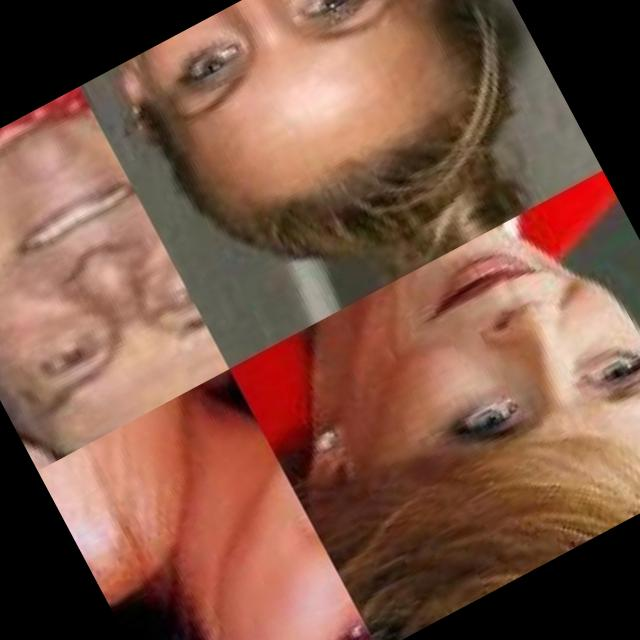bareface: (289, 169, 640, 618)
